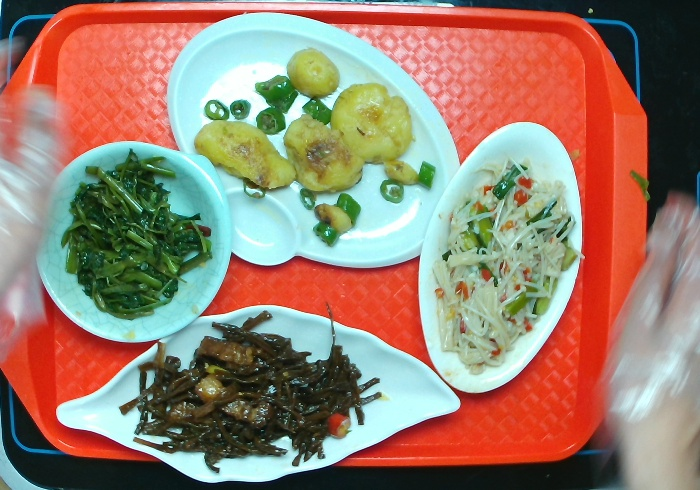RJxy-Bai_Se_Tuo_Yuan: (416, 119, 587, 399)
RJxy-Shu_Ye_Pan: (54, 304, 462, 490)
RJxy-Xiao_Jiao_Yuan_Wan: (38, 139, 228, 341)
RJxy-Zhan_Liao_Pan: (168, 10, 461, 272)
